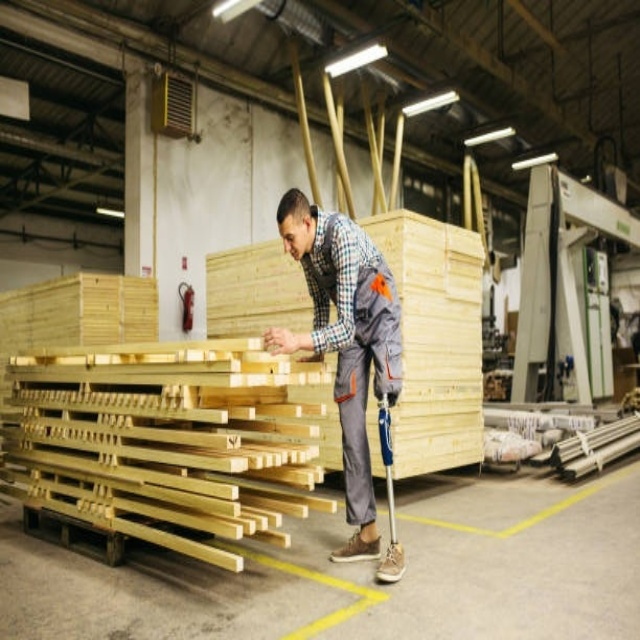Sin_gafas: (280, 226, 299, 245)
Sin_guantes: (262, 326, 298, 356)
Sin_mascara: (287, 246, 304, 265)
